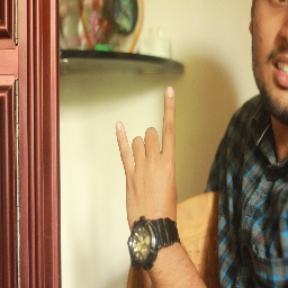V: (111, 82, 197, 229)
